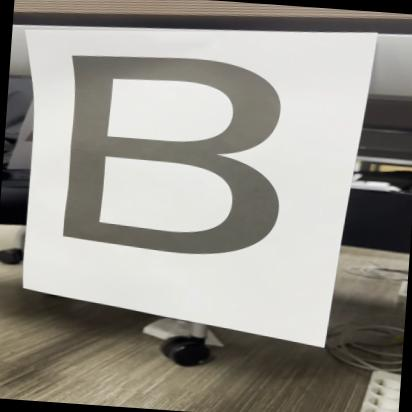seat: (34, 39, 310, 274)
